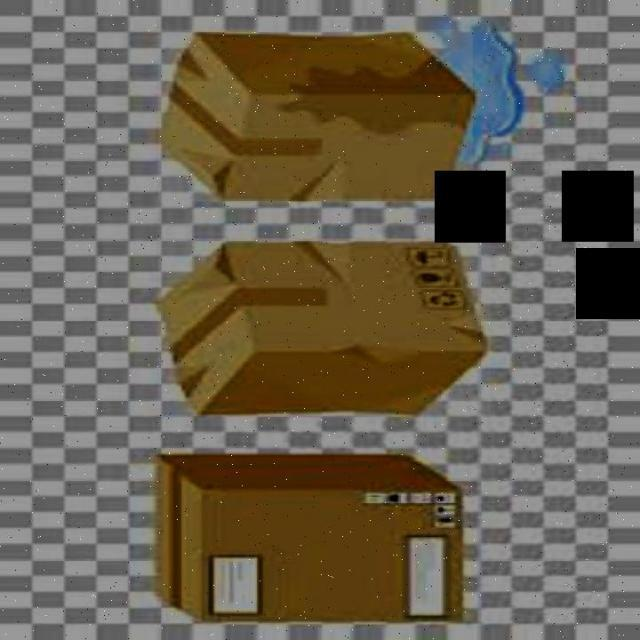box: (158, 238, 491, 416), (153, 450, 476, 628), (158, 29, 473, 202)
